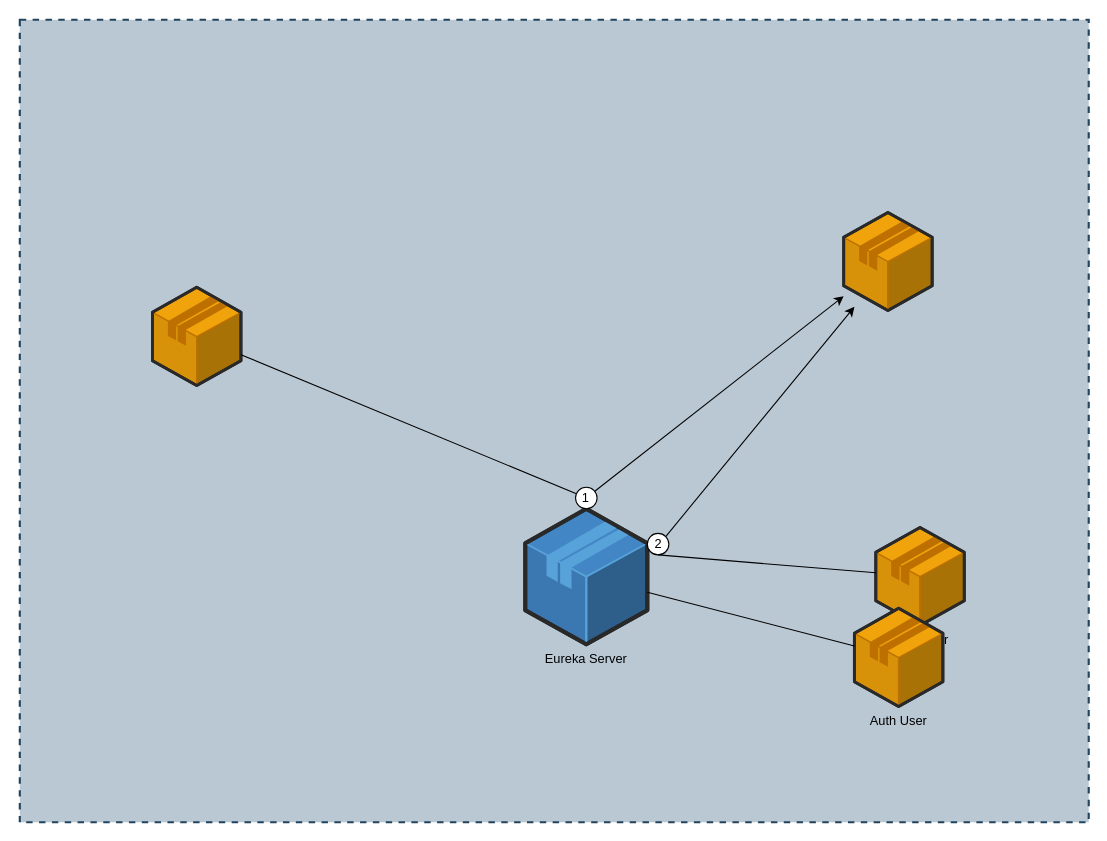
This 1107x841 diagram has some shape labels left out. The shapes that lost their labels are listed below. From the top down, each one's centre as x and y in pixels, then its label:
At (x=887, y=261): "Order 8080".
At (x=196, y=335): "product".
